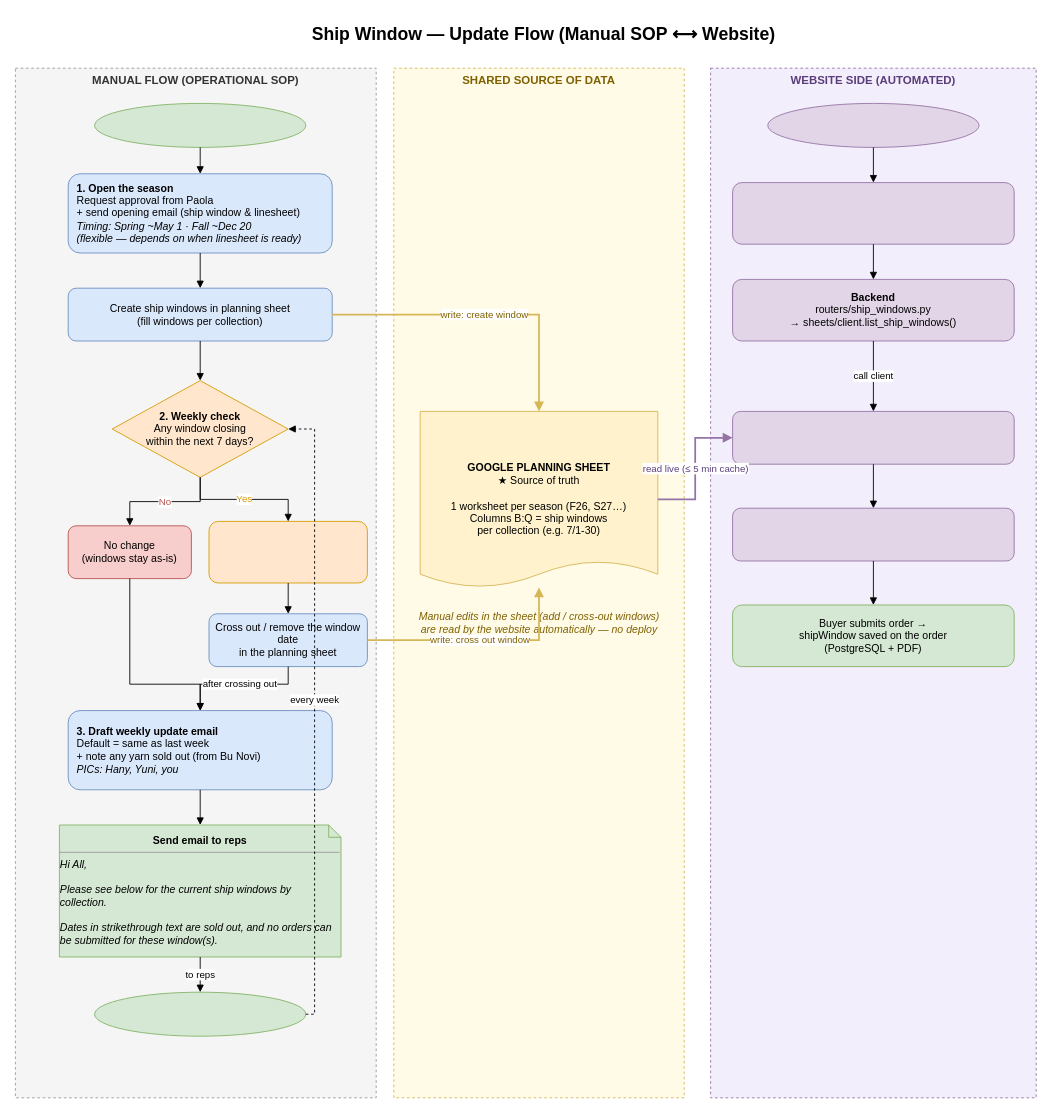
This 1052x1113 diagram has some shape labels left out. The centre of each missing label's shape, as x and y in pixels:
"Ship Window" dropdown auto-populates in the order form (OrderHeader.jsx): pixel 873 534
Buyer opens the order form & picks a season: pixel 873 125
Confirm with Bu Novi first required for a final window (e.g. 7/30 for S26): pixel 287 552
Digital linesheet finished: pixel 200 125
Frontend api.js → getShipWindows(season) GET /api/ship-windows?season=F26: pixel 873 213
Read sheet via service account (read-only) parse window regex, cache 5 min: pixel 873 437
Repeat the following week: pixel 200 1013
